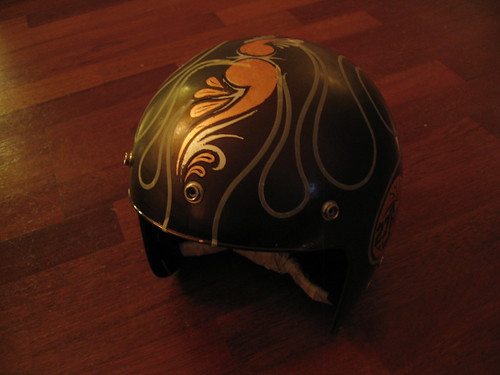helmet: (124, 27, 404, 245)
